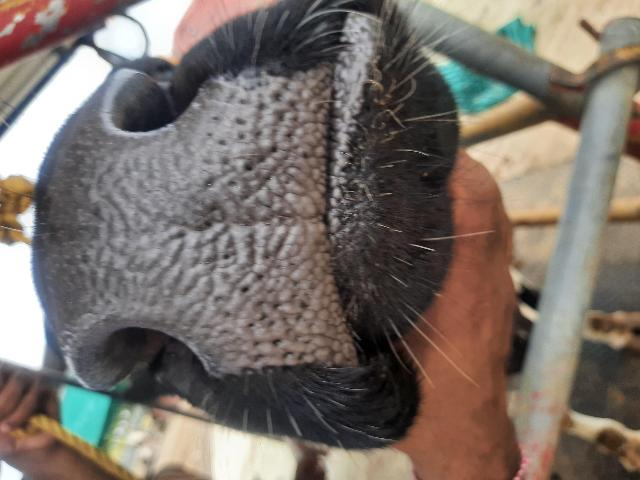Muzzle: (63, 138, 331, 328)
